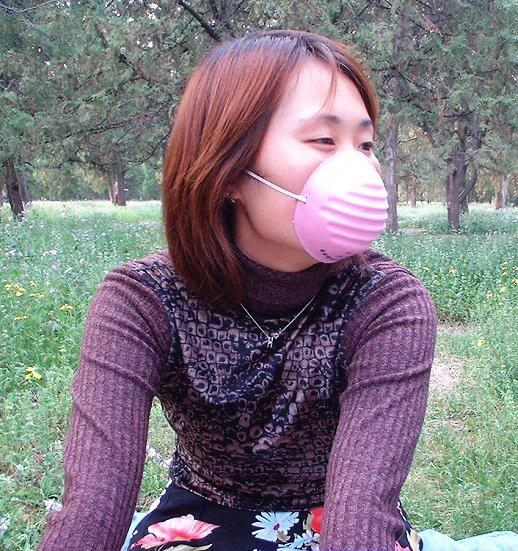OK: (245, 110, 397, 262)
